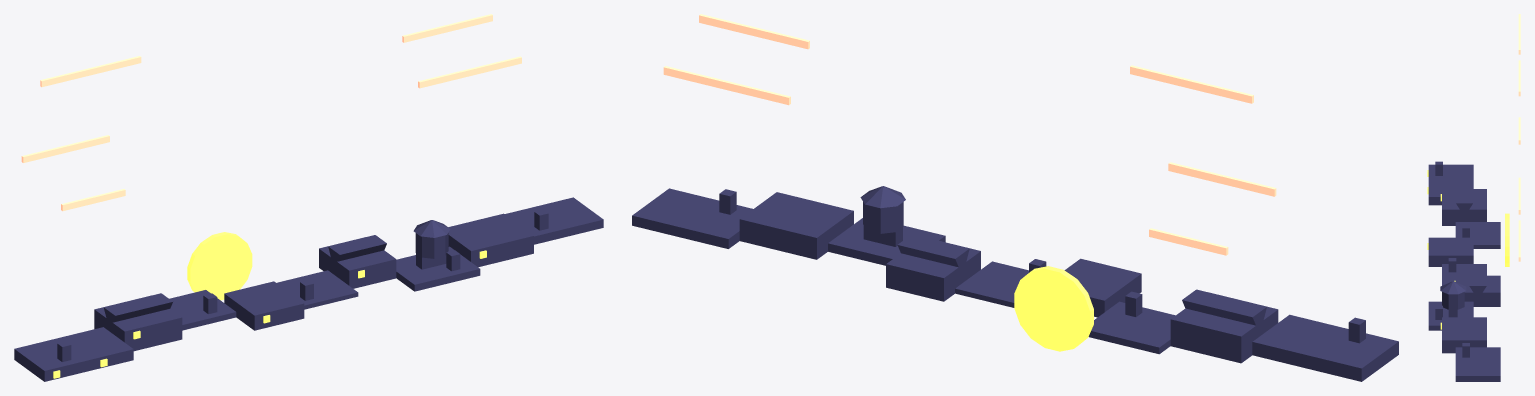
File: far.glb
The picture shows the model from 3 angles, left to right: view 1: azimuth 30°, elevation 25°; view 2: azimuth 150°, elevation 25°; view 3: azimuth 270°, elevation 25°; orthographic projection. The views are drawn at different scales.
Parts seen in each view (by area): view 1: House0, SunDisc, House7, House3, House8, House1, House5, House6, House4, House2, Gable1, Gable5 (+6 smaller); view 2: House0, SunDisc, House7, House8, House1, House5, House2, House3, House4, House6, Gable1, Gable5 (+7 smaller); view 3: House8, House7, House3, House1, House0, House2, House5, House6, Gable1, House4, Gable5, Tank (+11 smaller).
Boxes of the visible parts, x1,y1,x2,y2 form: House0: (14,327,133,381); SunDisc: (187,232,252,300); House7: (448,213,533,267); House3: (224,281,304,330); House8: (505,197,603,244); House1: (94,295,182,351); House5: (319,239,396,288); House6: (396,246,480,291); House4: (277,270,358,309); House2: (169,290,236,330); Gable1: (103,293,172,329); Gable5: (328,235,386,267); House0: (1252,314,1398,381); SunDisc: (1014,266,1093,351); House7: (739,192,853,259); House8: (632,188,752,248); House1: (1170,292,1278,363); House5: (886,237,980,301); House2: (1088,301,1175,354); House3: (1064,258,1141,317); House4: (955,261,1028,307); House6: (828,218,945,265); Gable1: (1182,289,1266,334); Gable5: (897,234,969,275); House8: (1455,347,1500,381); House7: (1442,317,1486,353); House3: (1428,237,1473,266); House1: (1442,189,1486,225); House0: (1428,164,1473,205); House2: (1455,222,1500,248); House5: (1455,275,1500,306); House6: (1428,301,1473,330); Gable1: (1455,182,1473,216); House4: (1442,264,1486,285); Gable5: (1469,269,1486,295); Tank: (1442,292,1464,309).
Bounding box in the file's own units: 22 × 9.25 × 4.16.
